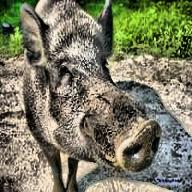boar: (0, 0, 168, 192)
